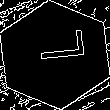L_W: (26, 37, 84, 73)
